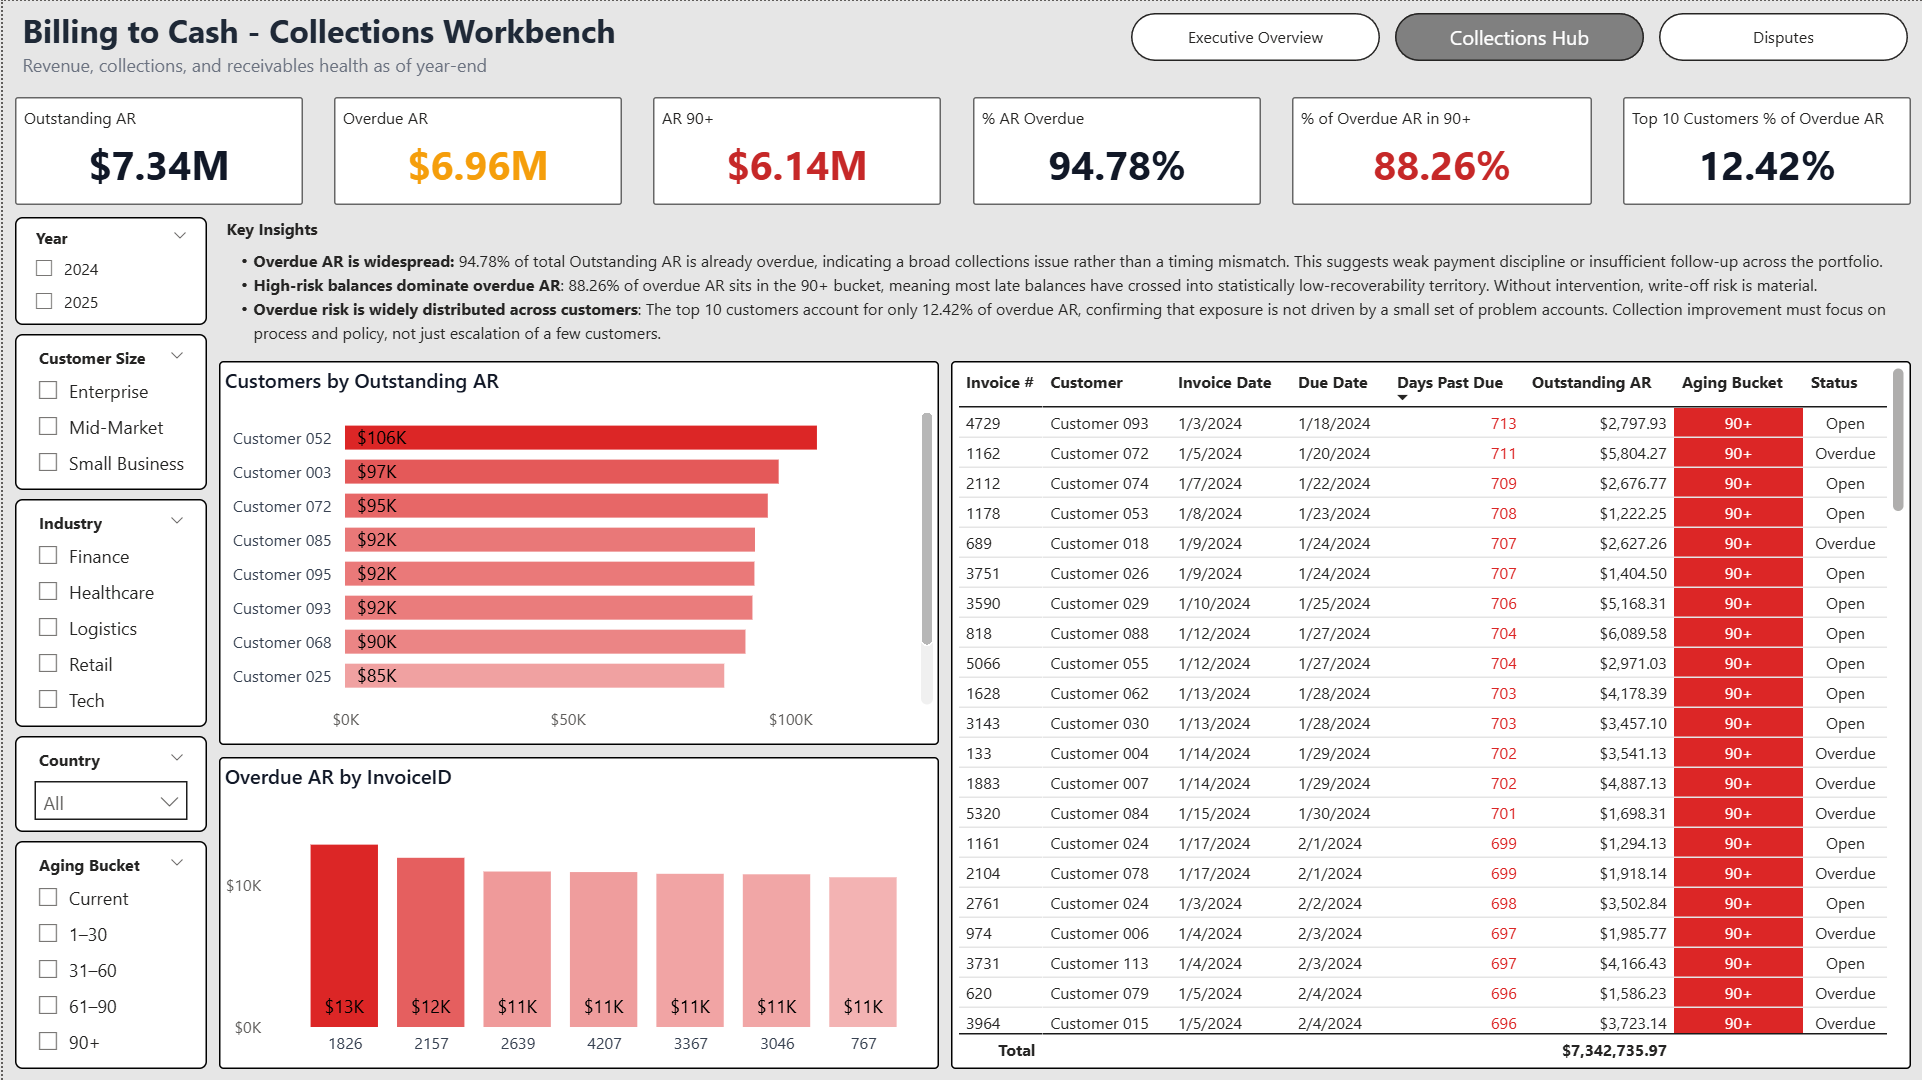

Layout of this report page (visuals, bound fields, positions):
{"tool":"powerbi","page":{"name":"Collections Hub","canvas":[1280,720],"ordinal":1},"visuals":[{"type":"textbox","box":[8,0,424,56],"z":0},{"type":"pageNavigator","box":[752,8,520,32],"z":1000},{"type":"slicer","title":"Year","fields":{"Values":["DimDate.Year"]},"box":[8,144,128,72],"z":2000},{"type":"slicer","fields":{"Values":["DimCustomer.CustomerSize"]},"box":[8,222,128,104],"z":3000},{"type":"slicer","fields":{"Values":["DimCustomer.Industry"]},"box":[8,332,128,152],"z":4000},{"type":"slicer","fields":{"Values":["DimCustomer.Country"]},"box":[8,490,128,64],"z":5000},{"type":"card","title":"Overdue AR","fields":{"Values":["Calc_Measures.Overdue Invoices (Count)"]},"box":[220.8,64,192,72],"z":6000},{"type":"card","title":"Top 10 Customers % of Overdue AR","fields":{"Values":["Calc_Measures.Top 10 Customers % of Overdue AR"]},"box":[1080,64,192,72],"z":7000},{"type":"card","title":"Outstanding AR","fields":{"Values":["Calc_Measures.Outstanding AR"]},"box":[8,64,192,72],"z":8000},{"type":"card","title":"AR 90+","fields":{"Values":["Calc_Measures.AR 90+"]},"box":[433.6,64,192,72],"z":9000},{"type":"card","title":"% of Overdue AR in 90+","fields":{"Values":["Calc_Measures.% of Overdue AR in 90+"]},"box":[859.2,64,200,72],"z":10000},{"type":"card","title":"% Overdue AR","fields":{"Values":["Calc_Measures.% AR Overdue"]},"box":[646.4,64,192,72],"z":11000},{"type":"barChart","title":"Customers by Outstanding AR","fields":{"Category":["DimCustomer.CustomerName"],"Y":["Calc_Measures.Outstanding AR"]},"box":[144,240,480,256],"z":12000},{"type":"textbox","title":"Key Insights","box":[144,144,1136,88],"z":13000},{"type":"tableEx","title":"Invoice-Level Aging Detail","fields":{"Values":["FactInvoices.InvoiceID","DimCustomer.CustomerName","FactInvoices.InvoiceDate","FactInvoices.DueDate","FactInvoices.Days Past Due","Calc_Measures.Outstanding AR","DimAgingBucket.Aging Bucket","FactInvoices.InvoiceStatus"]},"box":[632,240,640,472],"z":14000},{"type":"slicer","fields":{"Values":["DimAgingBucket.Aging Bucket"]},"box":[8,560,128,152],"z":15000},{"type":"clusteredColumnChart","fields":{"Category":["FactInvoices.InvoiceID"],"Y":["Calc_Measures.Overdue AR"]},"box":[144,504,480,208],"z":17000}]}

Visuals, with their boxes in screenshot pixels (x1, y1, x2, y2), scaled from the page's 1280x720 canvas onto the 1922x1080 screenshot:
textbox: x1=12, y1=0, x2=649, y2=84
pageNavigator: x1=1129, y1=12, x2=1910, y2=60
"Year" slicer: x1=12, y1=216, x2=204, y2=324
slicer - DimCustomer.CustomerSize: x1=12, y1=333, x2=204, y2=489
slicer - DimCustomer.Industry: x1=12, y1=498, x2=204, y2=726
slicer - DimCustomer.Country: x1=12, y1=735, x2=204, y2=831
"Overdue AR" card: x1=332, y1=96, x2=620, y2=204
"Top 10 Customers % of Overdue AR" card: x1=1622, y1=96, x2=1910, y2=204
"Outstanding AR" card: x1=12, y1=96, x2=300, y2=204
"AR 90+" card: x1=651, y1=96, x2=939, y2=204
"% of Overdue AR in 90+" card: x1=1290, y1=96, x2=1590, y2=204
"% Overdue AR" card: x1=971, y1=96, x2=1259, y2=204
"Customers by Outstanding AR" barChart: x1=216, y1=360, x2=937, y2=744
"Key Insights" textbox: x1=216, y1=216, x2=1921, y2=348
"Invoice-Level Aging Detail" tableEx: x1=949, y1=360, x2=1910, y2=1068
slicer - DimAgingBucket.Aging Bucket: x1=12, y1=840, x2=204, y2=1068
clusteredColumnChart - FactInvoices.InvoiceID x Calc_Measures.Overdue AR: x1=216, y1=756, x2=937, y2=1068
